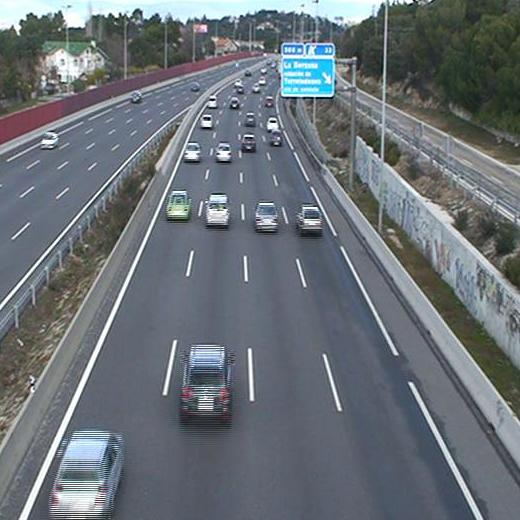car: (49, 429, 123, 520), (179, 343, 236, 422), (204, 192, 232, 224), (294, 203, 324, 232), (165, 189, 192, 219), (254, 203, 279, 232), (239, 133, 258, 150), (183, 141, 201, 158), (215, 142, 231, 161), (199, 113, 214, 127), (270, 132, 283, 145), (267, 116, 279, 129), (244, 111, 255, 125)
